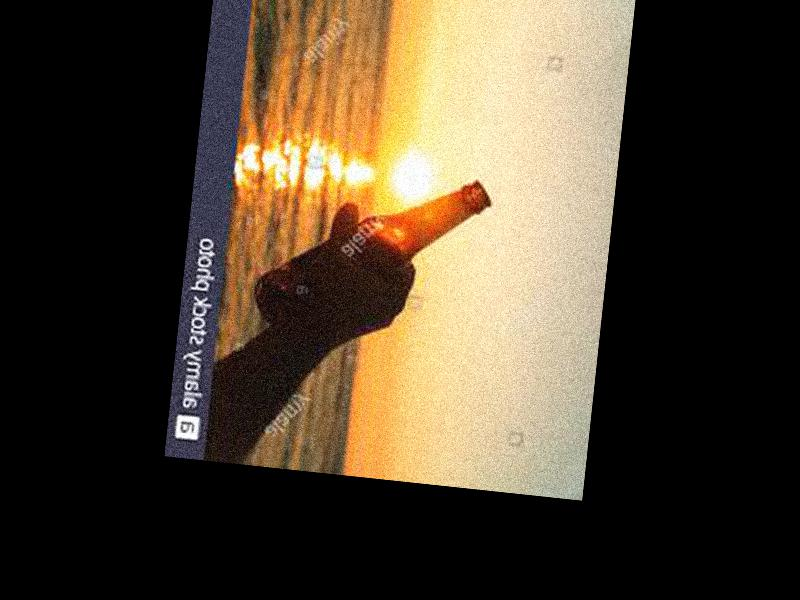Beer: (250, 159, 496, 351)
